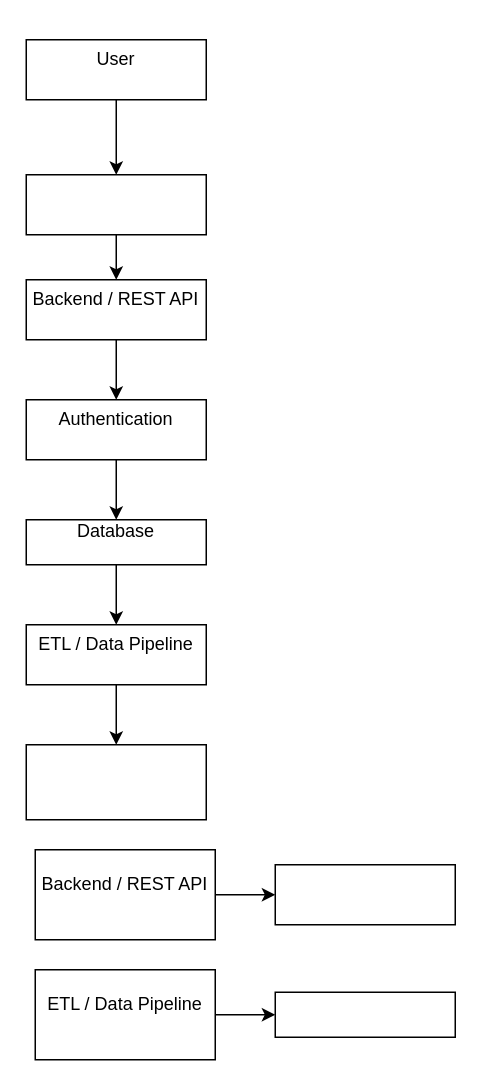
Image size: 482x1086. Some labels were removed from this diagram. The centre of each missing label's shape, as x and y in pixels:
Analytics / BI Dashboard: point 115,781
Error Handling: point 364,1014
Frontend / Web Application: point 115,204
Logging: point 364,894
